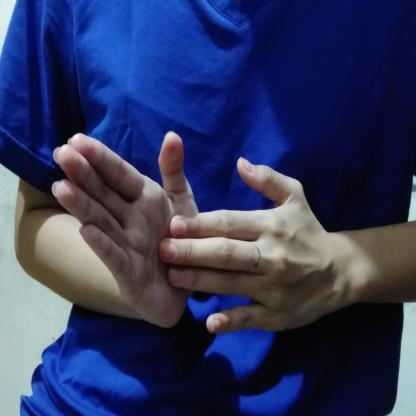mother: (44, 119, 367, 345)
